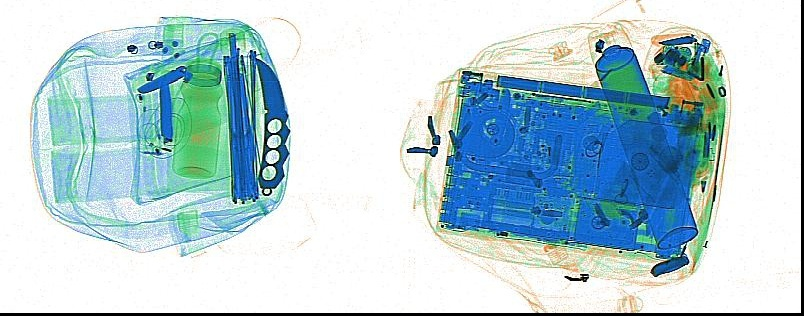knife: (253, 57, 291, 195), (135, 64, 190, 94), (158, 69, 174, 144), (650, 254, 689, 277), (649, 31, 697, 47)
pressure: (586, 20, 699, 249)
